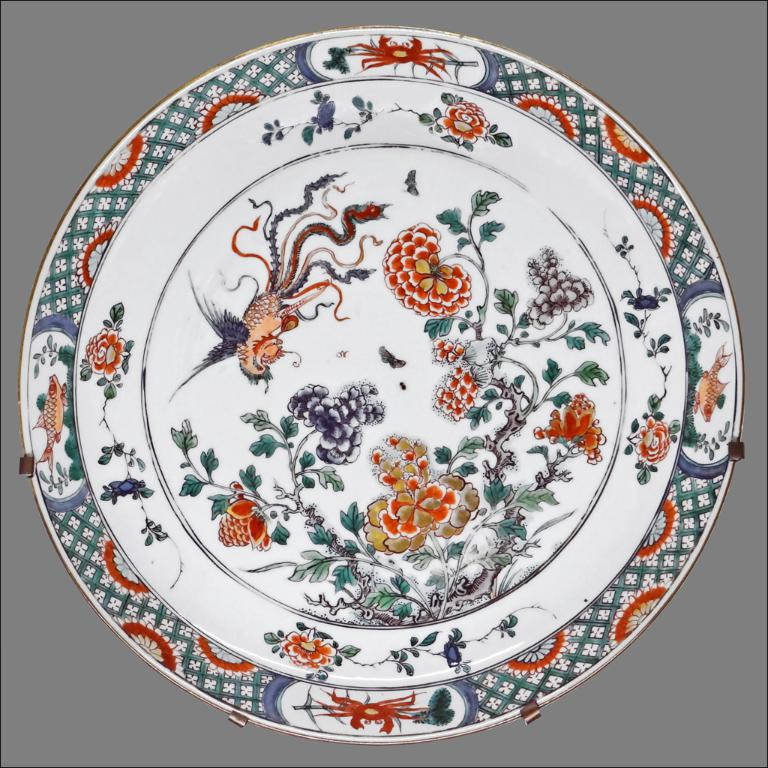plate: (19, 25, 744, 745)
